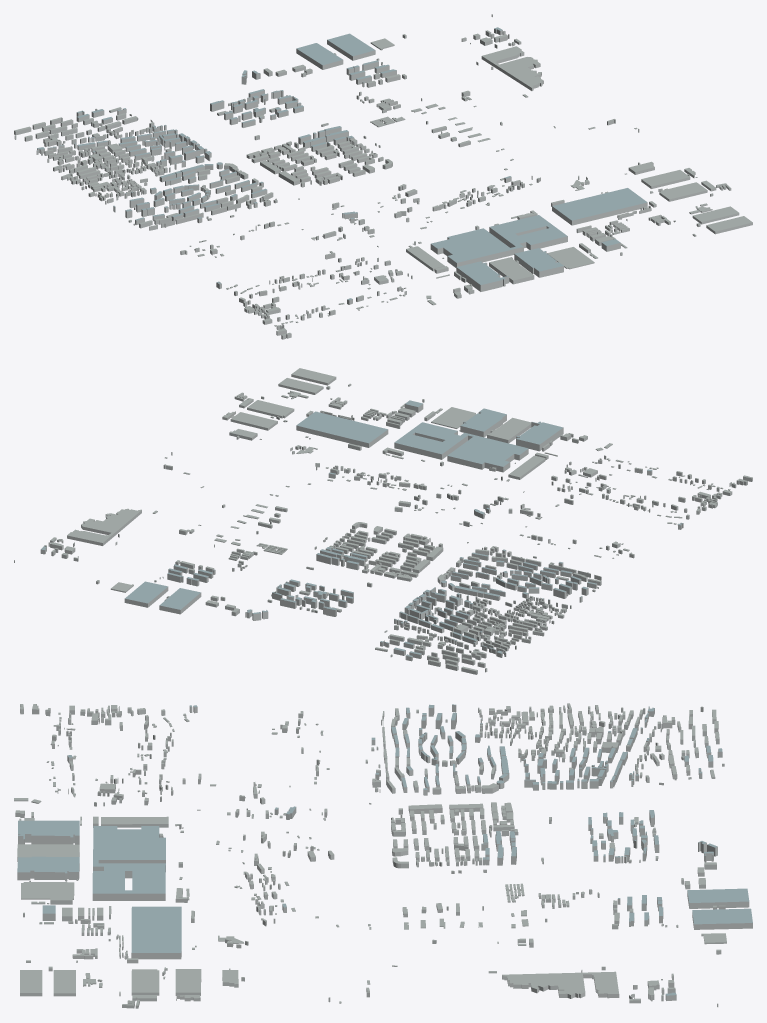
The model's file is far.glb.
The picture shows the model from 3 angles, top to bottom: view 1: azimuth 30°, elevation 25°; view 2: azimuth 150°, elevation 25°; view 3: azimuth 270°, elevation 25°; orthographic projection. The views are drawn at different scales.
Size of the model in its own units: 2127 by 30.55 by 2205.
